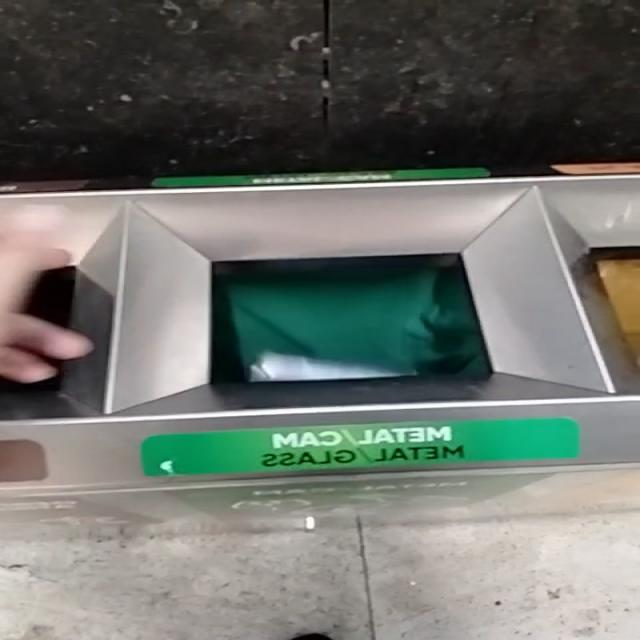metal: (249, 352, 405, 382)
